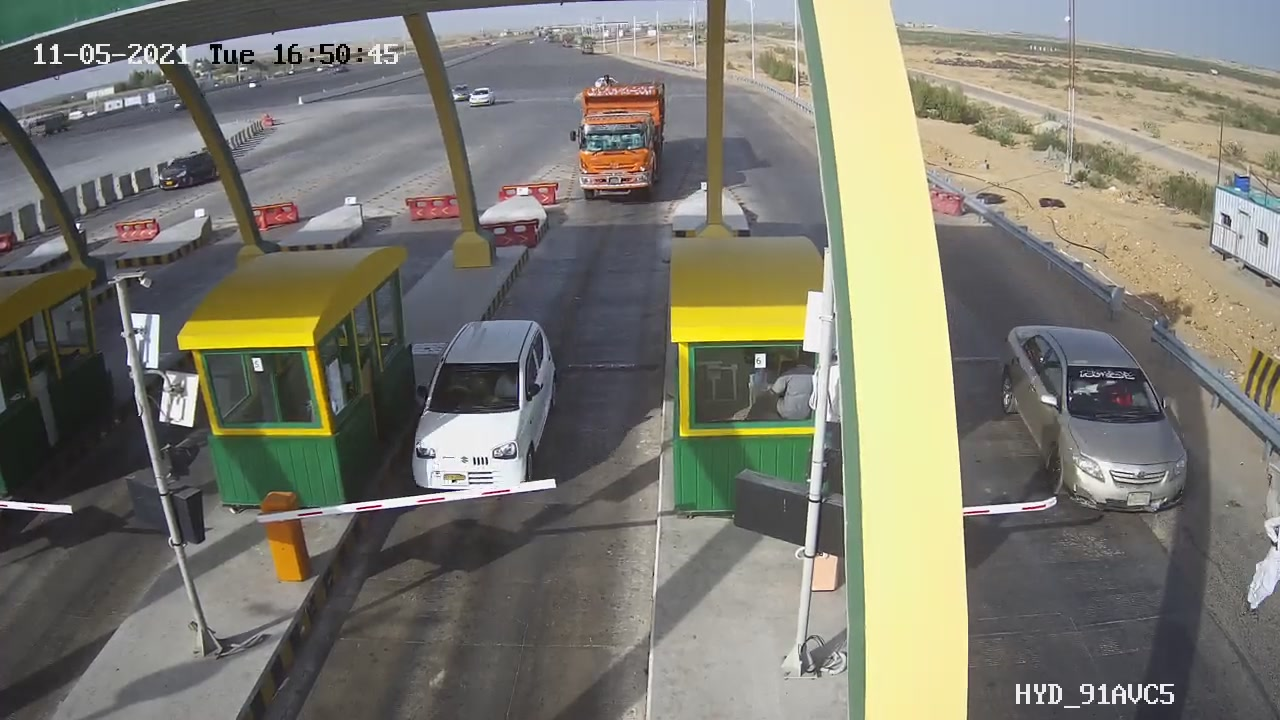F1: (388, 303, 579, 514)
